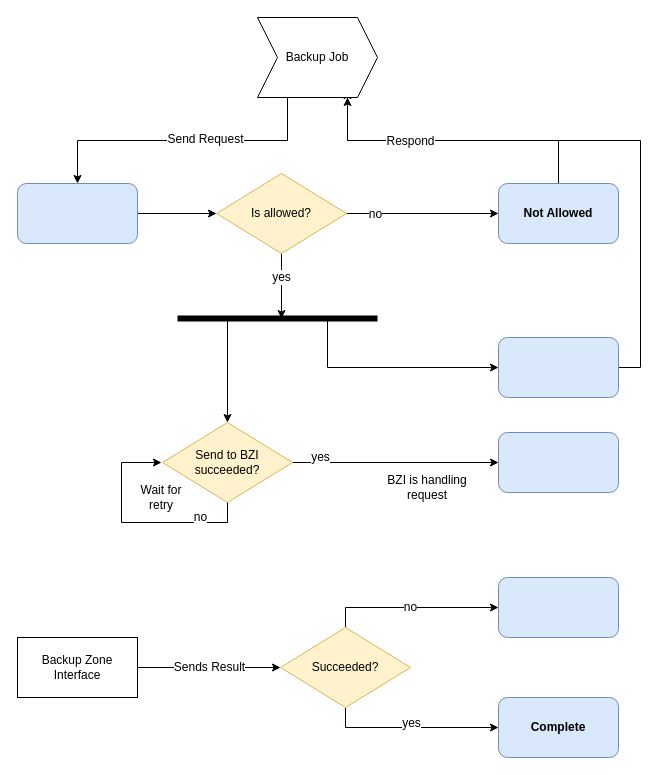
This 666x775 diagram has some shape labels left out. Each missing label, with the centre of its shape:
Allowed: the point at 558,367
Failed: the point at 558,607
Received: the point at 77,213
Sent: the point at 558,462
